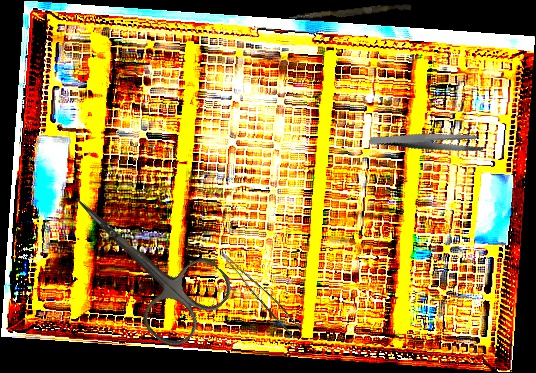Dressing Forceps: (368, 106, 487, 177)
Iris Scissors: (45, 163, 239, 355)
Pusher: (288, 0, 412, 25)
Tissue Forceps: (213, 253, 305, 338)
